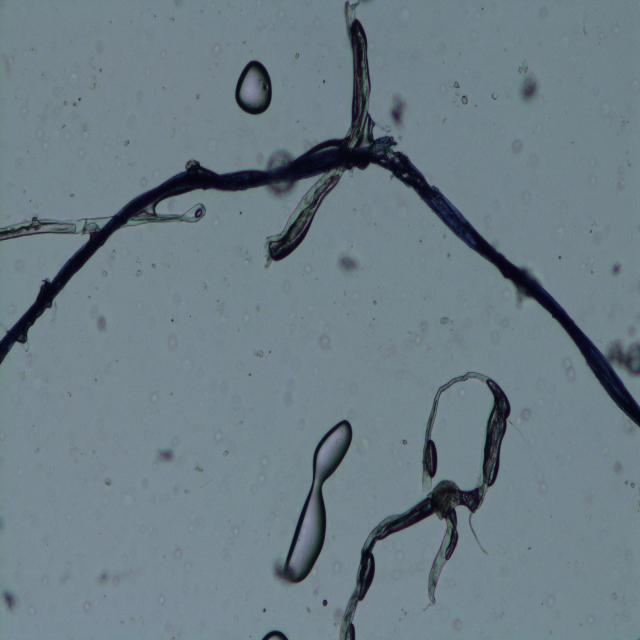Air bubble: (284, 420, 354, 587), (233, 56, 273, 119), (263, 626, 292, 640)
Background material: (607, 337, 640, 376), (60, 123, 92, 162), (389, 93, 411, 134), (516, 70, 540, 103), (254, 453, 274, 488), (97, 564, 126, 587), (1, 587, 23, 614), (89, 306, 109, 334), (156, 443, 176, 467), (270, 554, 286, 584), (339, 255, 361, 275), (3, 47, 15, 80), (237, 243, 251, 266), (62, 94, 82, 110), (451, 92, 471, 107), (449, 614, 465, 632), (612, 170, 625, 191), (563, 365, 578, 383), (592, 231, 606, 250), (166, 333, 180, 352), (440, 80, 460, 93), (251, 344, 267, 360), (542, 591, 556, 609), (512, 140, 526, 157), (68, 69, 80, 88), (90, 70, 100, 92), (611, 258, 623, 276), (584, 611, 598, 626), (367, 314, 378, 333), (209, 41, 222, 56), (319, 335, 331, 351), (214, 296, 224, 315), (610, 464, 624, 477), (492, 328, 504, 343), (520, 406, 532, 421), (193, 461, 204, 476), (281, 278, 292, 293), (304, 260, 314, 276), (172, 546, 185, 558), (438, 314, 452, 325), (412, 333, 424, 345), (81, 599, 91, 613), (98, 268, 110, 279), (183, 562, 194, 573), (39, 574, 49, 586), (135, 265, 144, 278), (214, 430, 223, 443), (254, 301, 262, 315), (624, 480, 636, 489), (27, 605, 37, 615), (219, 448, 229, 458), (156, 592, 164, 604), (490, 94, 500, 102), (140, 178, 148, 188), (124, 138, 132, 148), (446, 250, 454, 260), (38, 69, 46, 78), (194, 91, 202, 100), (294, 50, 301, 60), (260, 606, 268, 614), (27, 46, 36, 53), (304, 606, 311, 615), (105, 476, 111, 486), (150, 261, 156, 270), (322, 599, 328, 608), (98, 66, 104, 74), (372, 298, 378, 306), (154, 392, 158, 403), (21, 189, 26, 194), (70, 192, 74, 198), (322, 79, 326, 84)
Cellulose filter fibre: (338, 368, 516, 638), (264, 2, 372, 266), (0, 201, 210, 246)
Cotton: (0, 131, 640, 430)
